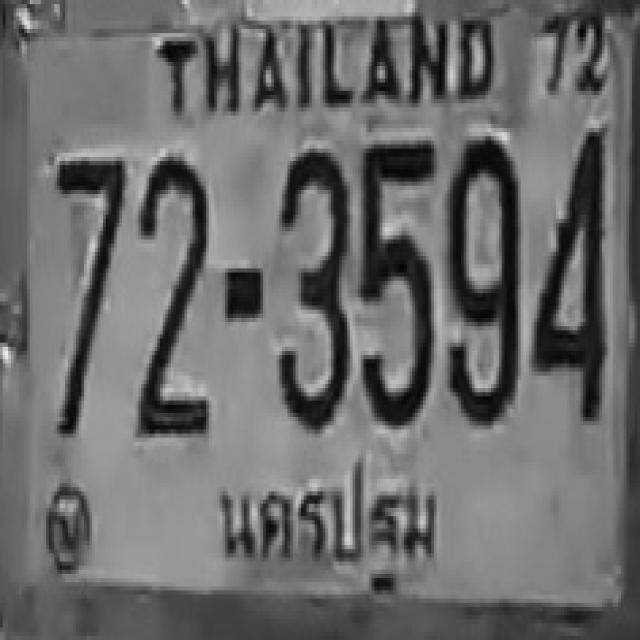0: (445, 132, 518, 425)
2: (136, 152, 208, 438)
3: (277, 146, 347, 428)
4: (532, 126, 604, 419)
5: (358, 138, 434, 424)
7: (54, 157, 128, 438)
9: (446, 134, 519, 423)
NakhonPathom: (220, 446, 451, 606)
